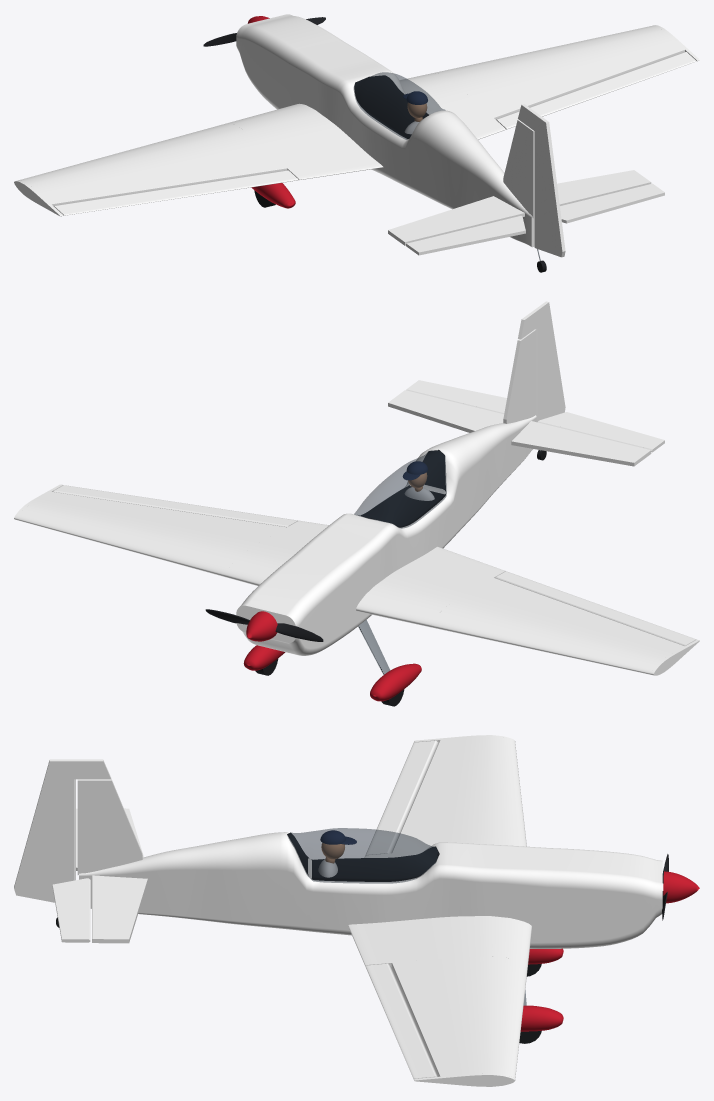
Rendered from extra.glb.
3 renders of one model, top to bottom at view 1: azimuth 30°, elevation 25°; view 2: azimuth 150°, elevation 25°; view 3: azimuth 270°, elevation 25°, orthographic. The views are drawn at different scales.
Parts seen in each view (by area): view 1: fuselage, wing_left_ahead_of_aileron, wing_right_ahead_of_aileron, wing_left_root, stab, canopy, rudder, aileron_left, wing_right_root, aileron_right, cockpit_floor, fin (+4 smaller); view 2: fuselage, wing_left_ahead_of_aileron, wing_right_ahead_of_aileron, wing_left_root, stab, canopy, rudder, wing_right_root, cockpit_floor, fin, aileron_left, aileron_right (+5 smaller); view 3: fuselage, wing_right_ahead_of_aileron, wing_left_ahead_of_aileron, wing_right_root, canopy, rudder, fin, stab, aileron_right, aileron_left, cockpit_floor, elevator_right (+3 smaller).
Part boxes in pixels (x1=…): fuselage: x1=236, y1=14, x2=534, y2=247; wing_left_ahead_of_aileron: x1=19, y1=123, x2=287, y2=205; wing_right_ahead_of_aileron: x1=434, y1=25, x2=684, y2=119; wing_left_root: x1=228, y1=103, x2=383, y2=179; stab: x1=388, y1=170, x2=651, y2=245; canopy: x1=353, y1=72, x2=445, y2=139; rudder: x1=518, y1=104, x2=565, y2=257; aileron_left: x1=53, y1=170, x2=298, y2=215; wing_right_root: x1=399, y1=73, x2=505, y2=139; aileron_right: x1=496, y1=52, x2=696, y2=129; cockpit_floor: x1=354, y1=75, x2=428, y2=138; fin: x1=503, y1=119, x2=534, y2=218; fuselage: x1=236, y1=415, x2=536, y2=655; wing_left_ahead_of_aileron: x1=431, y1=577, x2=684, y2=674; wing_right_ahead_of_aileron: x1=17, y1=491, x2=286, y2=577; wing_left_root: x1=356, y1=546, x2=505, y2=627; stab: x1=388, y1=390, x2=651, y2=466; canopy: x1=354, y1=450, x2=446, y2=528; rudder: x1=518, y1=301, x2=565, y2=422; wing_right_root: x1=224, y1=520, x2=328, y2=585; cockpit_floor: x1=358, y1=449, x2=445, y2=527; fin: x1=503, y1=329, x2=536, y2=423; aileron_left: x1=496, y1=571, x2=696, y2=645; aileron_right: x1=53, y1=485, x2=298, y2=526; fuselage: x1=79, y1=832, x2=662, y2=948; wing_right_ahead_of_aileron: x1=391, y1=956, x2=527, y2=1078; wing_left_ahead_of_aileron: x1=392, y1=736, x2=526, y2=852; wing_right_root: x1=348, y1=916, x2=532, y2=967; canopy: x1=287, y1=828, x2=438, y2=883; rudder: x1=14, y1=759, x2=111, y2=902; fin: x1=77, y1=779, x2=142, y2=874; stab: x1=92, y1=808, x2=147, y2=943; aileron_right: x1=365, y1=963, x2=437, y2=1078; aileron_left: x1=365, y1=740, x2=438, y2=855; cockpit_floor: x1=287, y1=832, x2=439, y2=881; elevator_right: x1=52, y1=878, x2=90, y2=942.
Bounding box in the file's own units: 1.62 × 0.5519 × 1.38.
